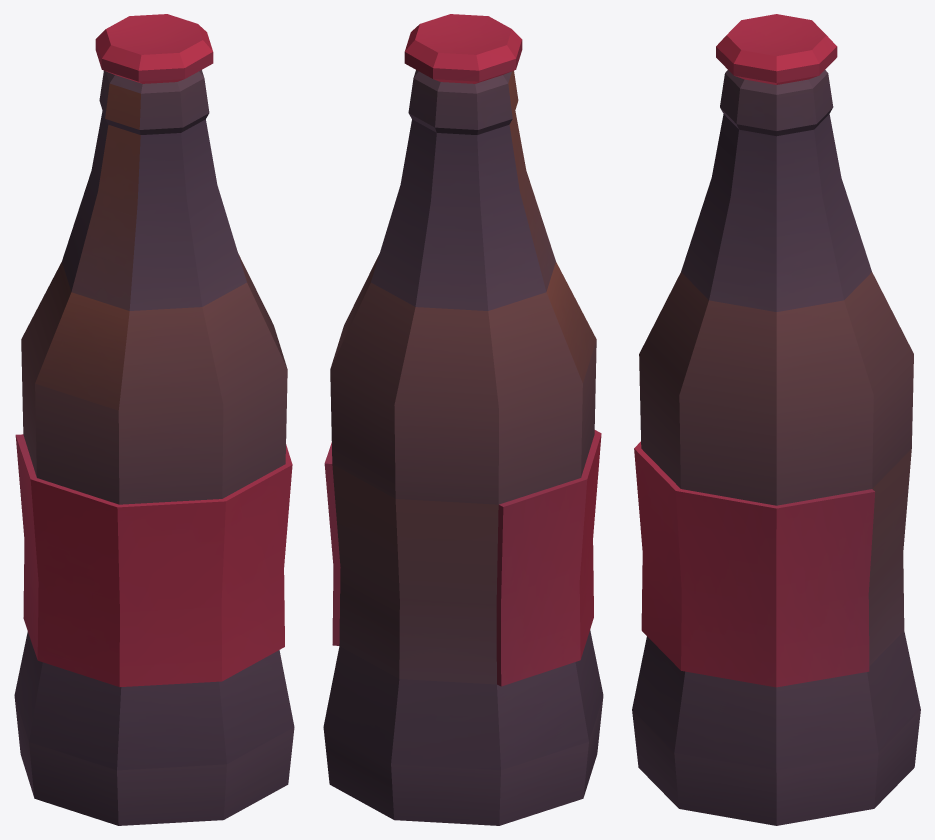
File: Bottle.fbx
The picture shows the model from 3 angles, left to right: view 1: azimuth 30°, elevation 25°; view 2: azimuth 150°, elevation 25°; view 3: azimuth 270°, elevation 25°; orthographic projection.
Visible parts, largest first — view 1: Bottle; view 2: Bottle; view 3: Bottle.
Part boxes in pixels (left/top/right/bottom): Bottle: left=14, top=14, right=294, bottom=825; Bottle: left=323, top=14, right=603, bottom=825; Bottle: left=632, top=14, right=920, bottom=825.
Size of the model in its own units: 0.3196 by 0.8941 by 0.3196.
